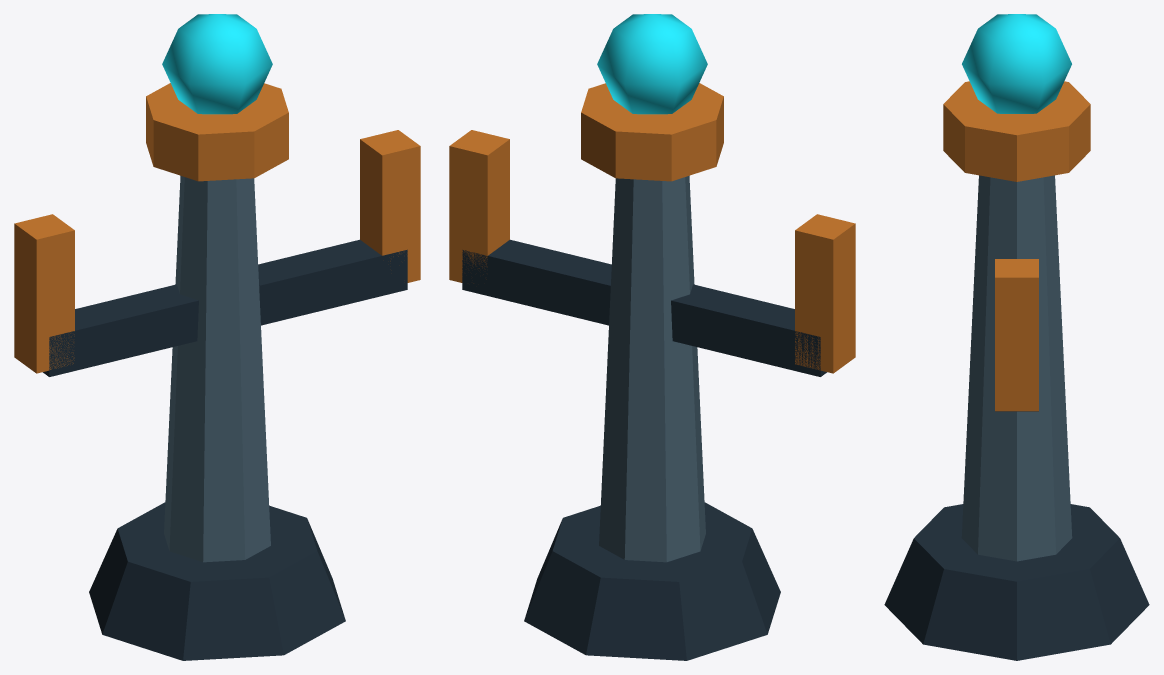
The model's file is mecanico_antena.obj.
3 views of the same model, side by side, from view 1: azimuth 30°, elevation 25°; view 2: azimuth 150°, elevation 25°; view 3: azimuth 270°, elevation 25° (orthographic).
Visible parts, largest first — view 1: mecanico_antena; view 2: mecanico_antena; view 3: mecanico_antena.
Part boxes in pixels (left/top/right/bottom): mecanico_antena: left=14, top=14, right=420, bottom=660; mecanico_antena: left=449, top=14, right=855, bottom=660; mecanico_antena: left=884, top=14, right=1149, bottom=660.
Size of the model in its own units: 1.2 by 1.77 by 0.72.
